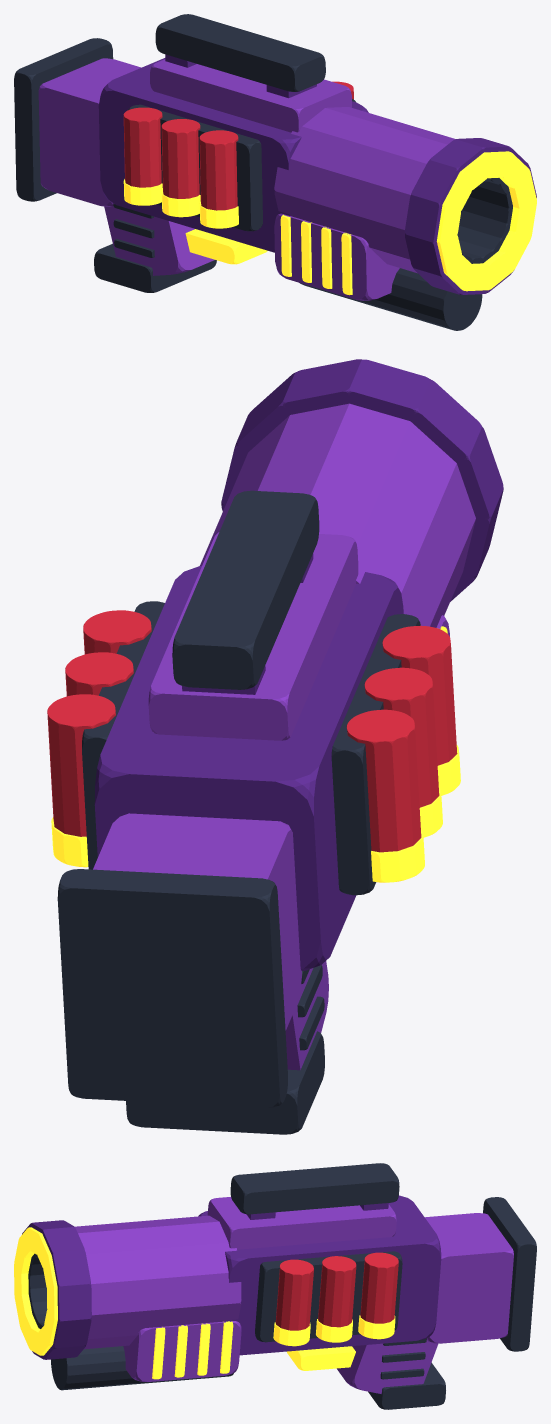
Rendered from Shotgun.fbx.
The picture shows the model from 3 angles, top to bottom: view 1: azimuth 30°, elevation 25°; view 2: azimuth 150°, elevation 25°; view 3: azimuth 270°, elevation 25°; orthographic projection. The views are drawn at different scales.
Visible parts, largest first — view 1: Weapon_Shotgun_Barrel, Weapon_Shotgun_Body, Weapon_Shotgun_Stock, Weapon_Shotgun_CarryRail, Weapon_Shotgun_MuzzleRim, Weapon_Shotgun_Accent, Weapon_Shotgun_MuzzleCollar, Weapon_Shotgun_StockPad, Weapon_Shotgun_Pump, Weapon_Shotgun_MagazineTube, Weapon_Shotgun_Grip, Weapon_Shotgun_Bore (+15 smaller); view 2: Weapon_Shotgun_StockPad, Weapon_Shotgun_Body, Weapon_Shotgun_Barrel, Weapon_Shotgun_CarryRail, Weapon_Shotgun_Accent, Weapon_Shotgun_MuzzleCollar, Weapon_Shotgun_Stock, Weapon_Shotgun_ShellRack_-1, Weapon_Shotgun_Shell_-1_0, Weapon_Shotgun_GripHeel, Weapon_Shotgun_Shell_1_0, Weapon_Shotgun_Shell_-1_1 (+7 smaller); view 3: Weapon_Shotgun_Barrel, Weapon_Shotgun_Body, Weapon_Shotgun_Stock, Weapon_Shotgun_CarryRail, Weapon_Shotgun_Accent, Weapon_Shotgun_MuzzleCollar, Weapon_Shotgun_Pump, Weapon_Shotgun_StockPad, Weapon_Shotgun_ShellRack_1, Weapon_Shotgun_MuzzleRim, Weapon_Shotgun_Grip, Weapon_Shotgun_MagazineTube (+15 smaller).
Boxes of the visible parts, x1,y1,x2,y2 form: Weapon_Shotgun_Barrel: [274, 107, 455, 273]; Weapon_Shotgun_Body: [98, 58, 368, 252]; Weapon_Shotgun_Stock: [38, 58, 141, 206]; Weapon_Shotgun_CarryRail: [155, 14, 325, 91]; Weapon_Shotgun_MuzzleRim: [436, 151, 536, 291]; Weapon_Shotgun_Accent: [150, 59, 351, 132]; Weapon_Shotgun_MuzzleCollar: [405, 138, 536, 294]; Weapon_Shotgun_StockPad: [14, 38, 113, 201]; Weapon_Shotgun_Pump: [274, 213, 399, 300]; Weapon_Shotgun_MagazineTube: [300, 268, 482, 330]; Weapon_Shotgun_Grip: [104, 206, 214, 275]; Weapon_Shotgun_Bore: [457, 178, 512, 263]; Weapon_Shotgun_StockPad: [57, 869, 287, 1107]; Weapon_Shotgun_Body: [94, 566, 403, 970]; Weapon_Shotgun_Barrel: [200, 403, 475, 627]; Weapon_Shotgun_CarryRail: [172, 490, 319, 689]; Weapon_Shotgun_Accent: [148, 532, 358, 740]; Weapon_Shotgun_MuzzleCollar: [221, 359, 503, 601]; Weapon_Shotgun_Stock: [93, 813, 301, 1030]; Weapon_Shotgun_ShellRack_-1: [331, 614, 420, 895]; Weapon_Shotgun_Shell_-1_0: [346, 709, 421, 852]; Weapon_Shotgun_GripHeel: [126, 1031, 324, 1134]; Weapon_Shotgun_Shell_1_0: [47, 694, 115, 836]; Weapon_Shotgun_Shell_-1_1: [364, 667, 439, 807]; Weapon_Shotgun_Barrel: [74, 1215, 241, 1349]; Weapon_Shotgun_Body: [198, 1195, 441, 1355]; Weapon_Shotgun_Stock: [425, 1213, 513, 1343]; Weapon_Shotgun_CarryRail: [230, 1163, 399, 1214]; Weapon_Shotgun_Accent: [207, 1197, 396, 1249]; Weapon_Shotgun_MuzzleCollar: [22, 1220, 91, 1359]; Weapon_Shotgun_Pump: [123, 1321, 241, 1381]; Weapon_Shotgun_StockPad: [483, 1197, 536, 1351]; Weapon_Shotgun_ShellRack_1: [255, 1251, 402, 1342]; Weapon_Shotgun_MuzzleRim: [14, 1227, 57, 1355]; Weapon_Shotgun_Grip: [337, 1339, 438, 1393]; Weapon_Shotgun_MagazineTube: [51, 1346, 233, 1390].
Bounding box in the file's own units: 74.46 × 69.51 × 140.
